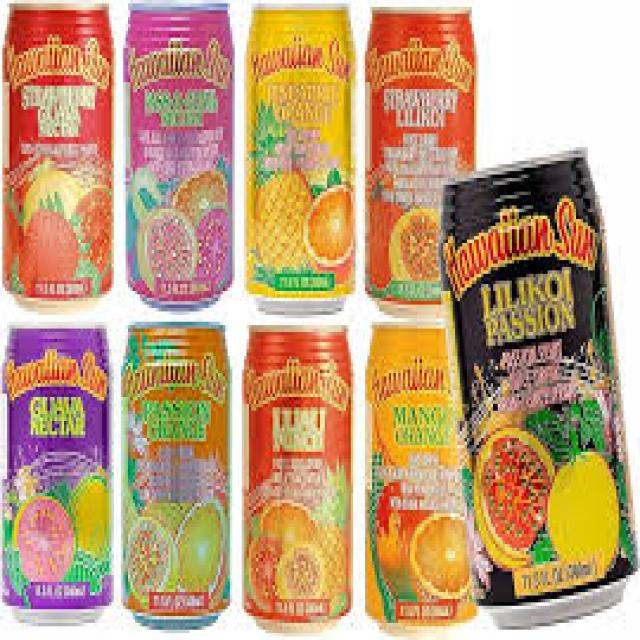Cans: (438, 140, 640, 622), (232, 318, 356, 637), (116, 312, 237, 633), (360, 318, 481, 633), (237, 7, 360, 311), (2, 322, 118, 630), (365, 3, 479, 315), (2, 3, 118, 308), (123, 7, 235, 304)
